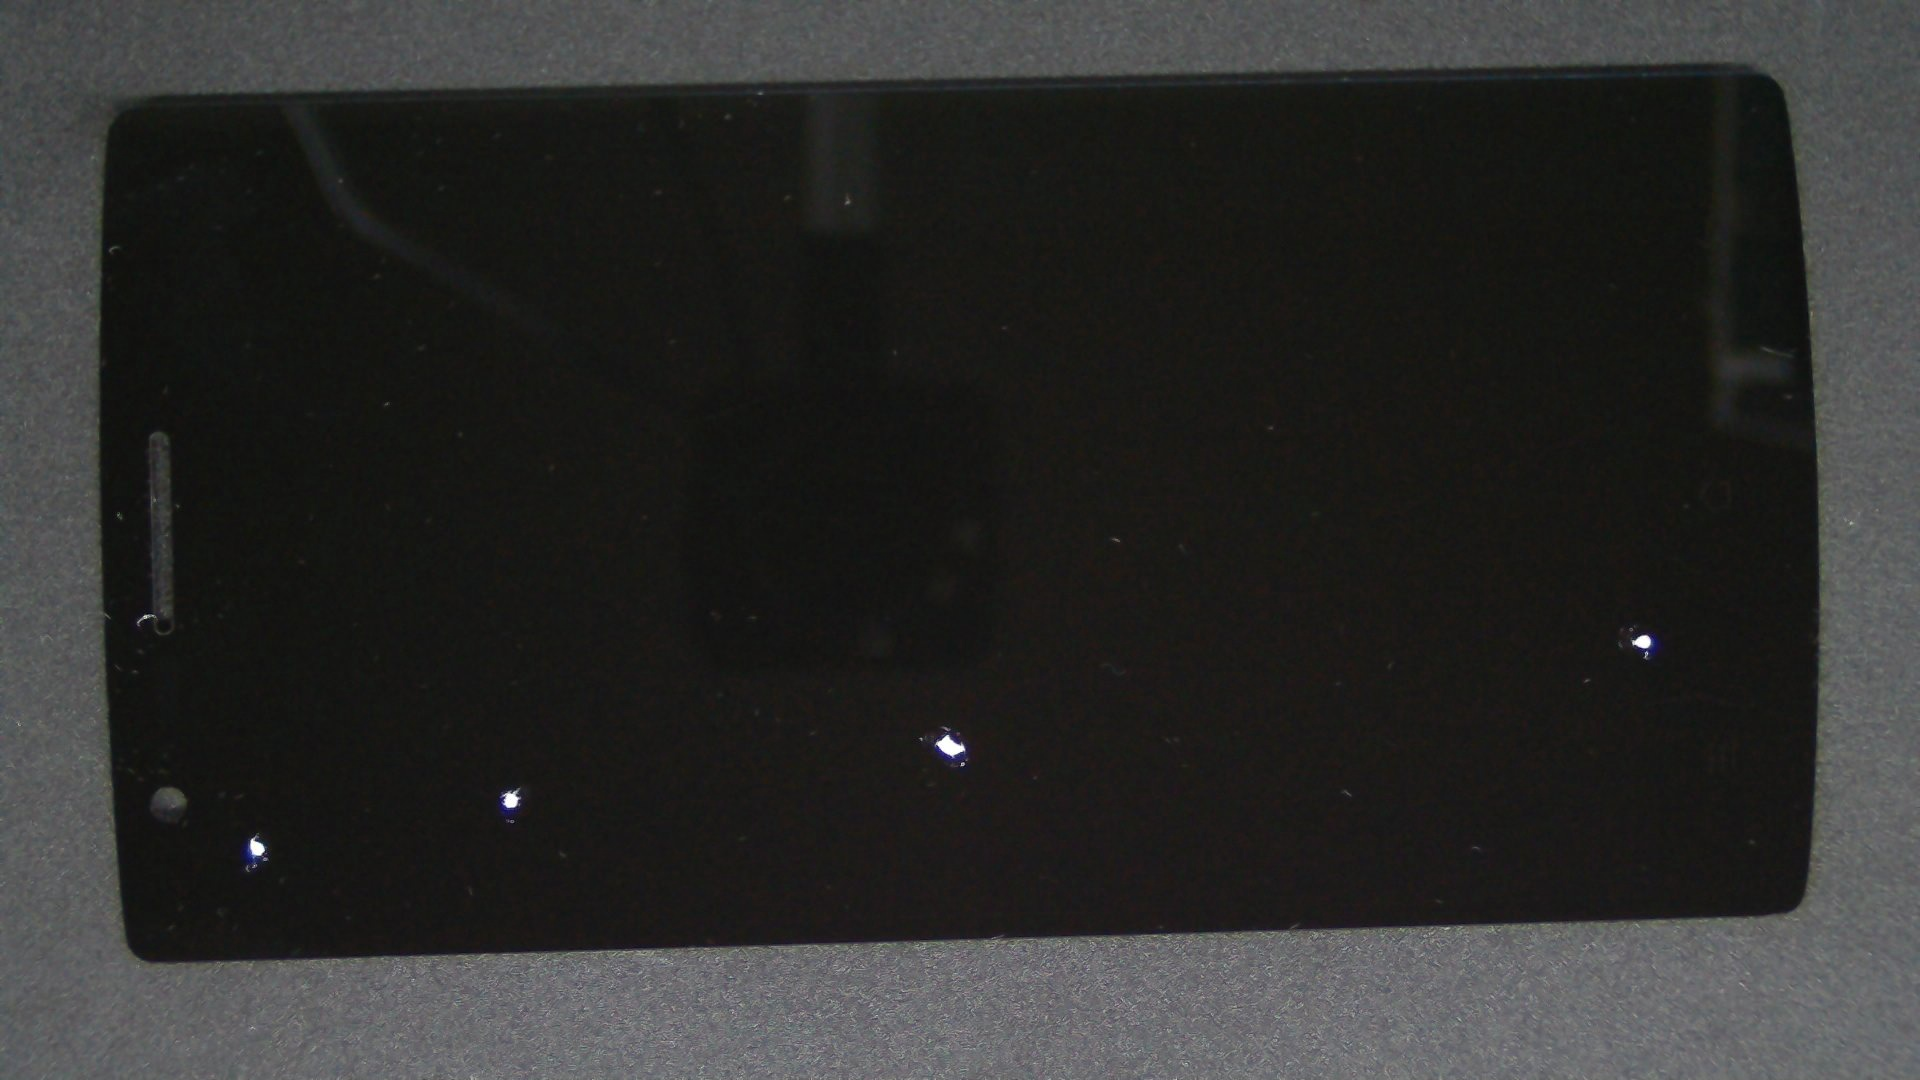oil: (822, 316, 1920, 952), (483, 378, 1447, 1080), (471, 363, 1411, 1080), (258, 393, 774, 1080), (253, 409, 757, 1080), (129, 415, 382, 1080)
